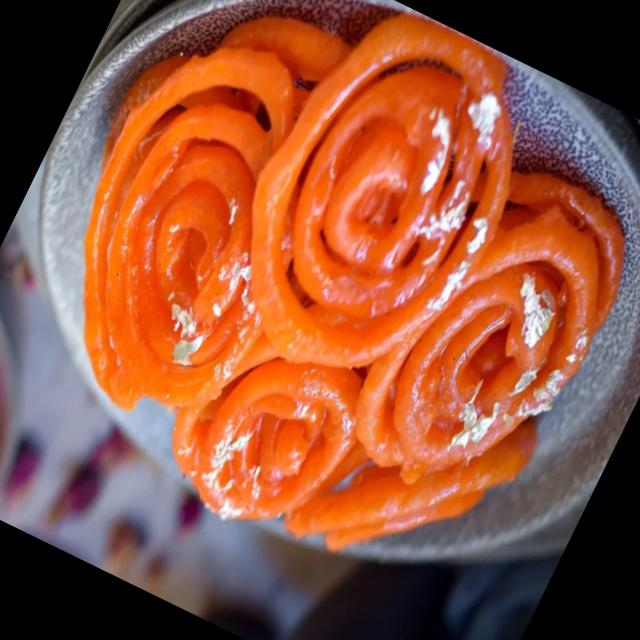jalebi: (0, 0, 640, 623)
